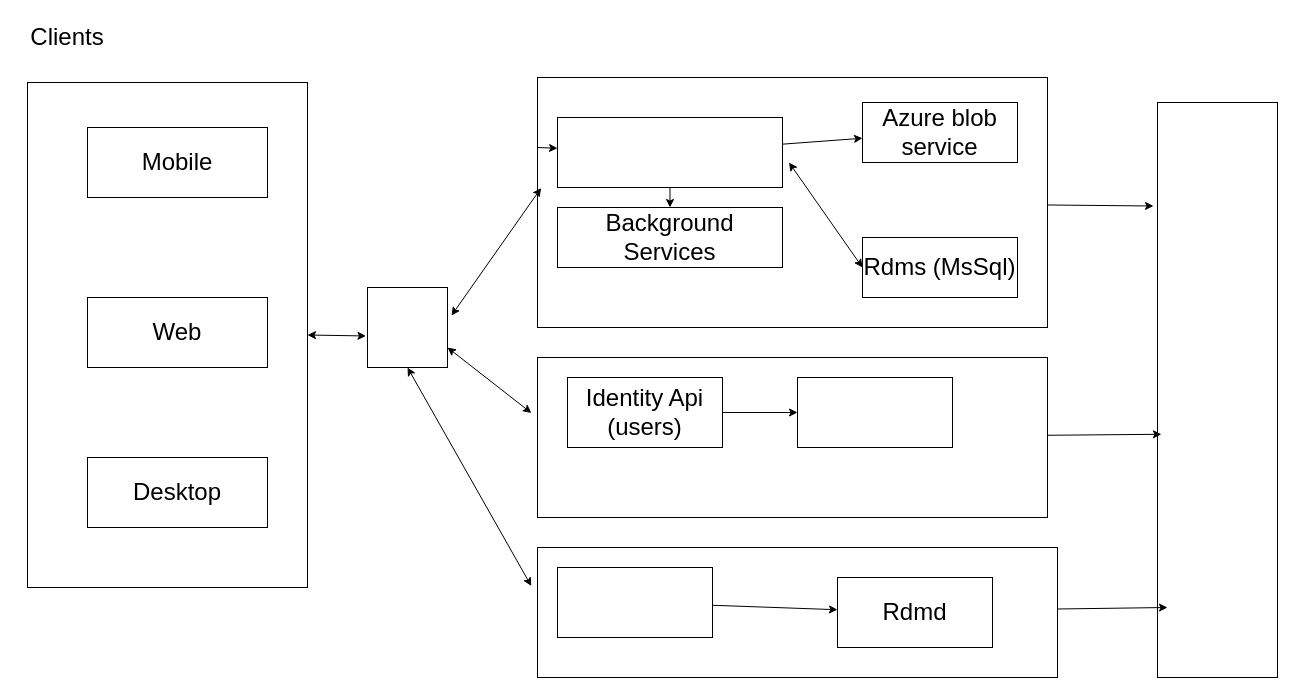
Image size: 1295x695. Some labels were removed from this diagram. The centre of each missing label's shape, as x and y in pixels:
Blob management Api: (669,152)
Gateway (envoy): (407,327)
Rdms: (874,412)
Subcription: (634,602)
